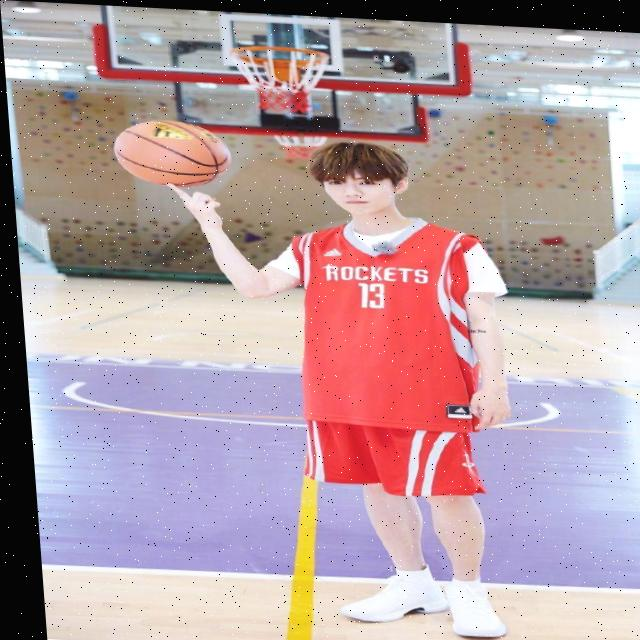basketball: (112, 119, 229, 188)
hoop: (226, 44, 328, 116)
